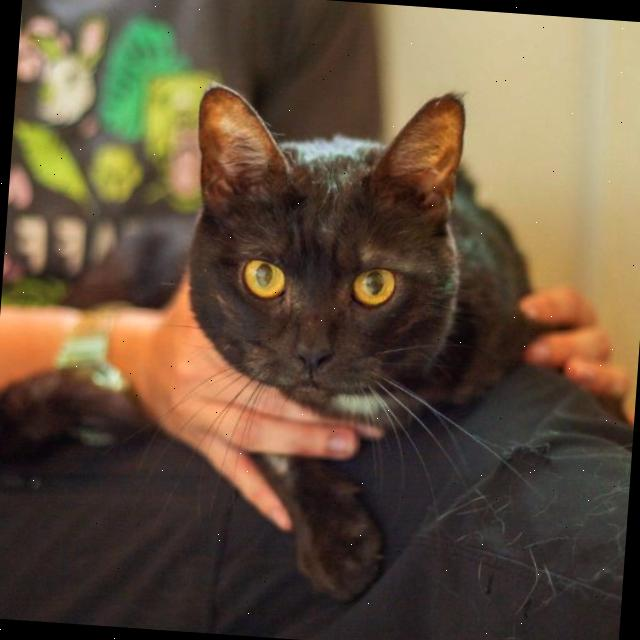domestic_short_hair_cat: (154, 61, 492, 443)
